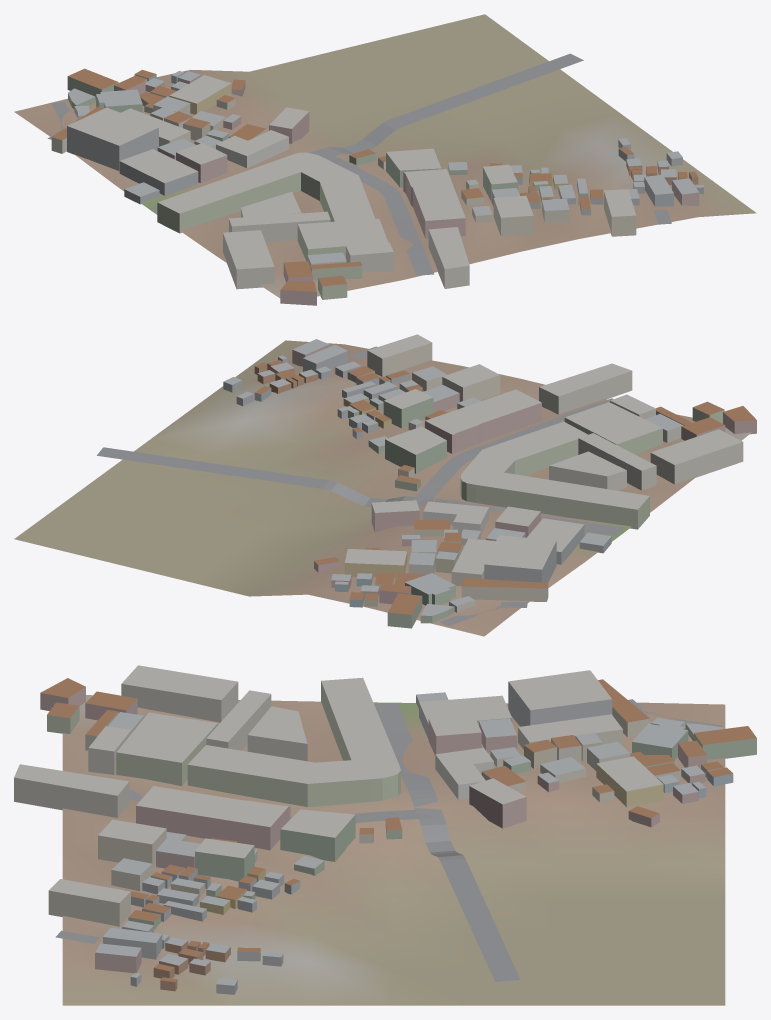
The picture shows the model from 3 angles, top to bottom: view 1: azimuth 30°, elevation 25°; view 2: azimuth 150°, elevation 25°; view 3: azimuth 270°, elevation 25°; orthographic projection. The views are drawn at different scales.
Parts seen in each view (by area): view 1: Lo; view 2: Lo; view 3: Lo.
Boxes of the visible parts, <box> form: Lo: <box>14,14,756,305</box>; Lo: <box>14,334,756,636</box>; Lo: <box>14,665,756,1005</box>.
Size of the model in its own units: 269 by 23.04 by 287.
